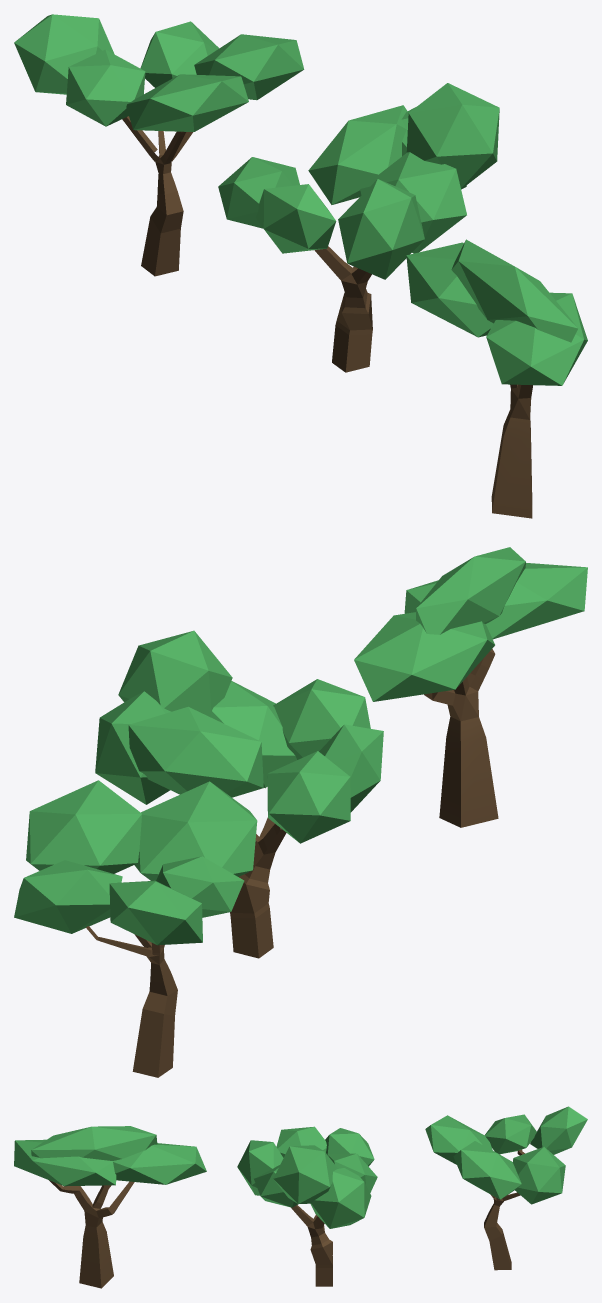
The model's file is arveres concertadas (1).fbx.
3 renders of one model, top to bottom at view 1: azimuth 30°, elevation 25°; view 2: azimuth 150°, elevation 25°; view 3: azimuth 270°, elevation 25°, orthographic. The views are drawn at different scales.
Parts seen in each view (by area): view 1: Cube, Icosphere.010, Icosphere.009; view 2: Cube, Icosphere.010, Icosphere.009; view 3: Icosphere.009, Cube, Icosphere.010.
Part boxes in pixels (box(x1,y1,x2,y2)): Cube: box(218, 83, 499, 372); Icosphere.010: box(14, 14, 304, 276); Icosphere.009: box(406, 239, 587, 518); Cube: box(95, 630, 383, 958); Icosphere.010: box(14, 780, 257, 1077); Icosphere.009: box(354, 547, 587, 827); Icosphere.009: box(14, 1126, 206, 1288); Cube: box(237, 1126, 377, 1286); Icosphere.010: box(425, 1106, 587, 1270).
Size of the model in its own units: 562 by 531 by 1657.
